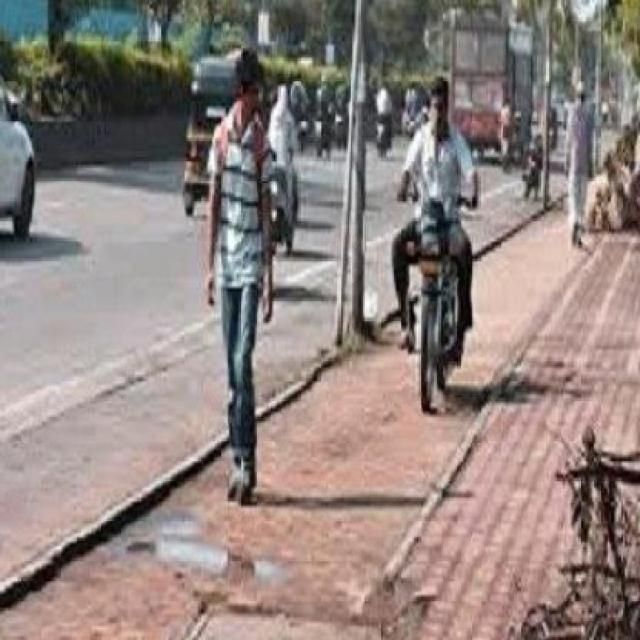Person: (188, 41, 282, 504), (390, 69, 479, 337)
